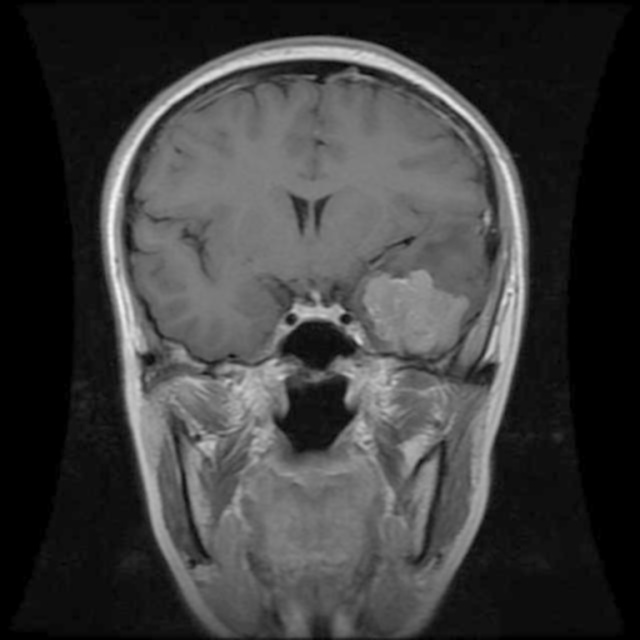meningioma tumor: (352, 260, 488, 366)
